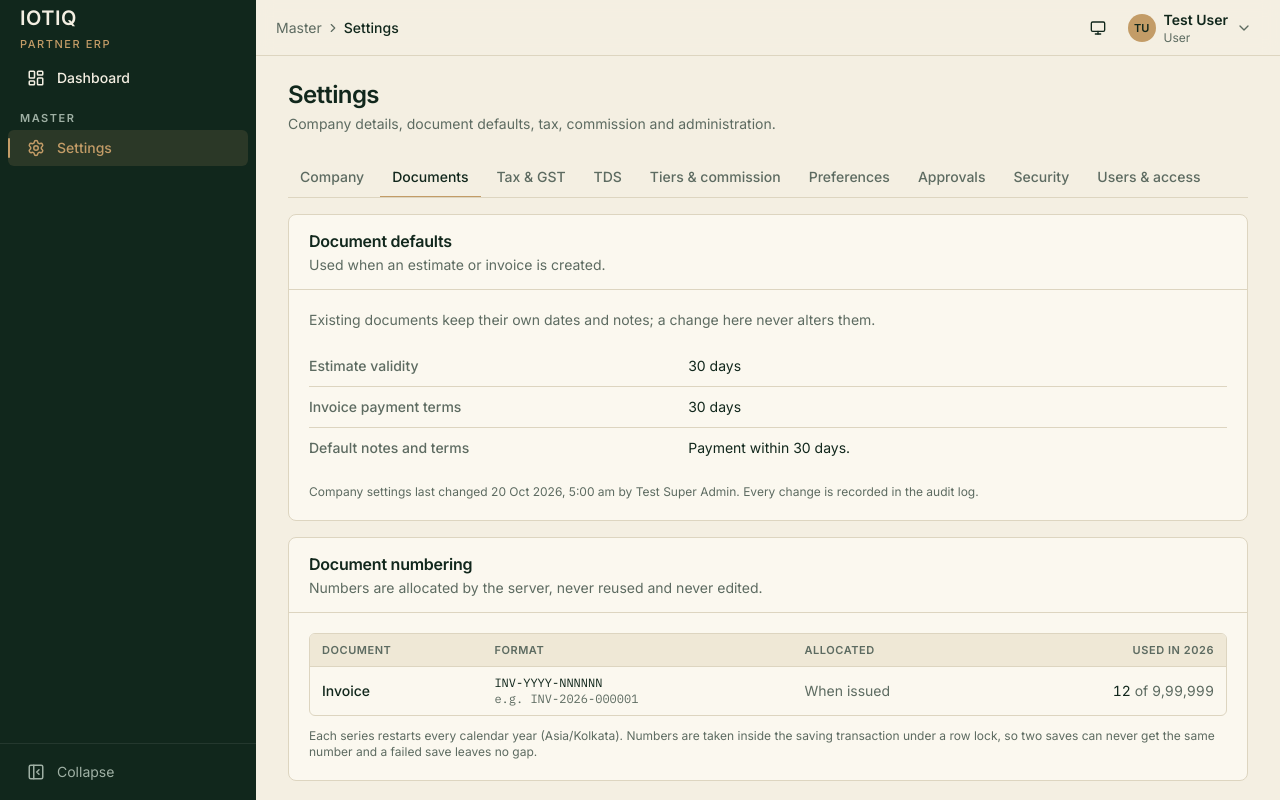
Scenario: settings and administration › shows a read-only view to a Settings reader, with no administration links
Expected: the heading "Document defaults" is shown, [309,231,452,251]
Expected: the table named "Number series" is shown, [310,634,1226,715]
What coordinates should you click on to do the following:
click the tab "Users & access"
I would click on:
 (1149, 178)
Its box is [1085,158,1212,198].
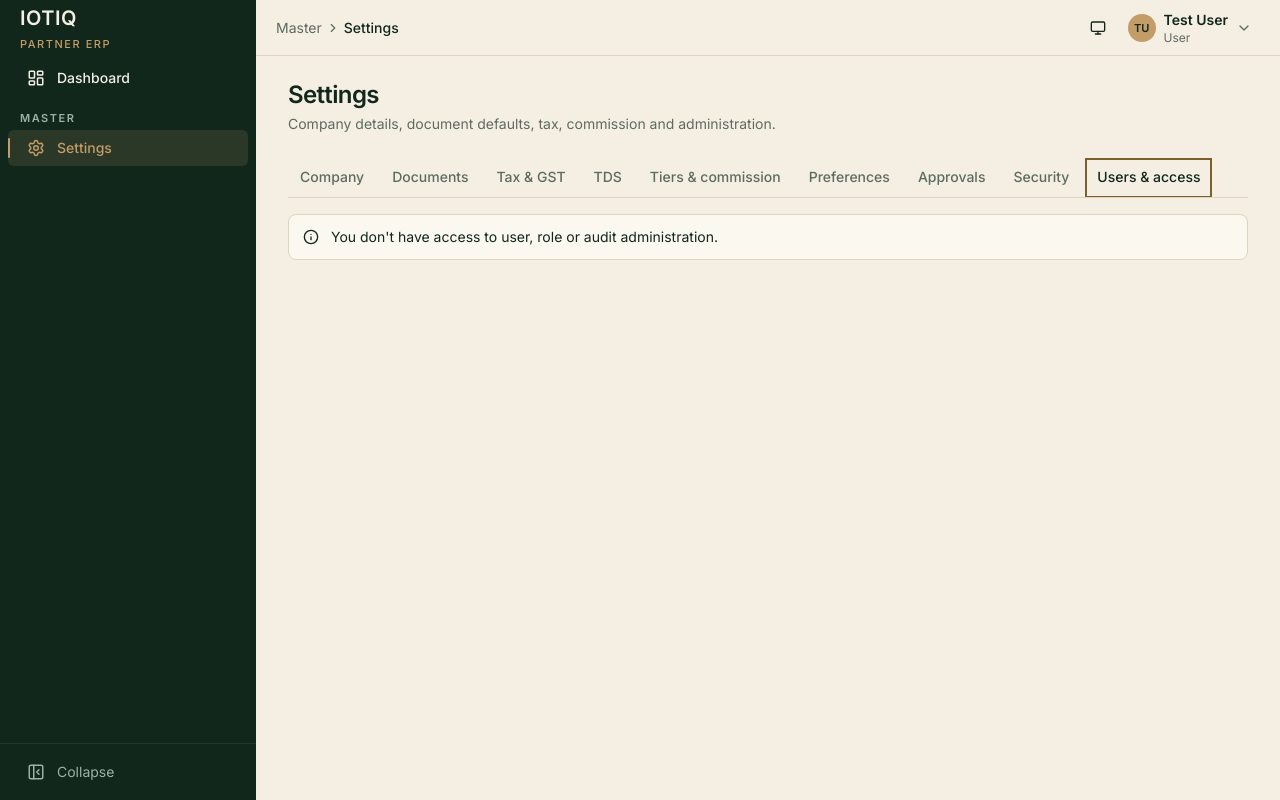
Expected: the text "You don't have access to user, role or audit administration." is shown, [331,228,718,245]
